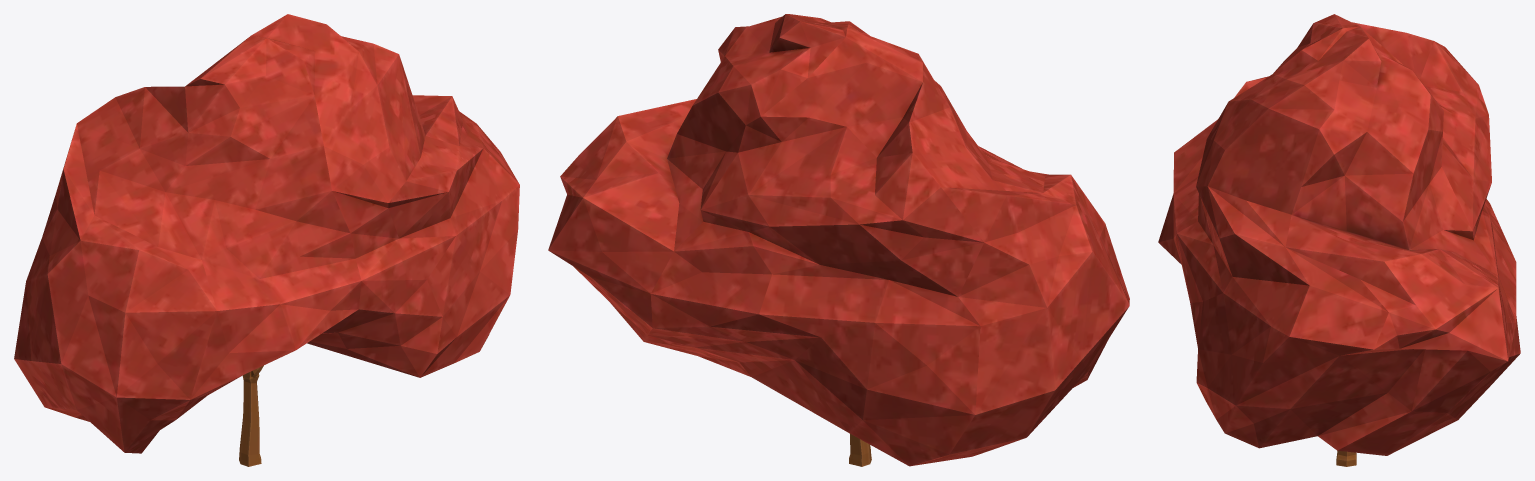
File: 8OfF21t6NMa.glb
3 views of the same model, side by side, from view 1: azimuth 30°, elevation 25°; view 2: azimuth 150°, elevation 25°; view 3: azimuth 270°, elevation 25° (orthographic). The views are drawn at different scales.
Visible parts, largest first — view 1: MapleTree_mesh; view 2: MapleTree_mesh; view 3: MapleTree_mesh.
Boxes of the visible parts, left/top/right/bottom form: MapleTree_mesh: left=14, top=14, right=519, bottom=466; MapleTree_mesh: left=548, top=14, right=1129, bottom=466; MapleTree_mesh: left=1158, top=14, right=1520, bottom=466.
Bounding box in the file's own units: 1.2 × 1 × 0.7333.
Materials: 1 (1 with a texture image).
